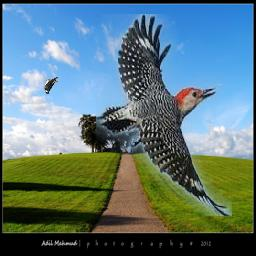Swallow: (45, 78, 60, 95)
Woodpecker: (96, 14, 232, 216)
